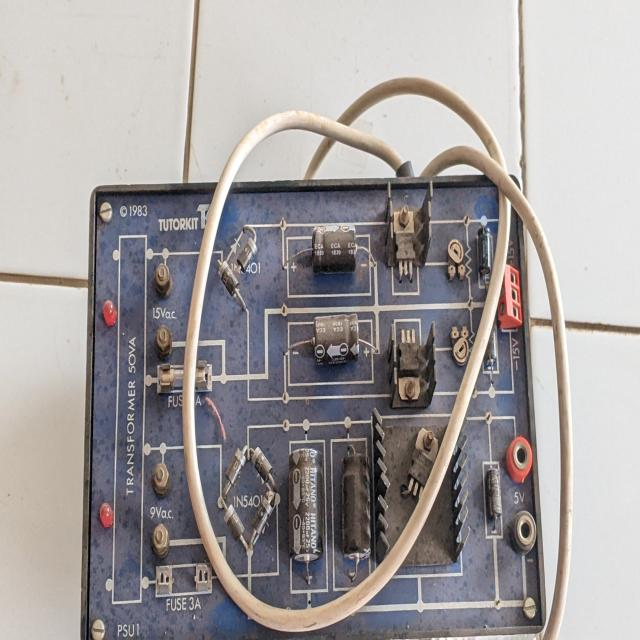Tutor Kit of Electronics: (78, 149, 557, 640)
